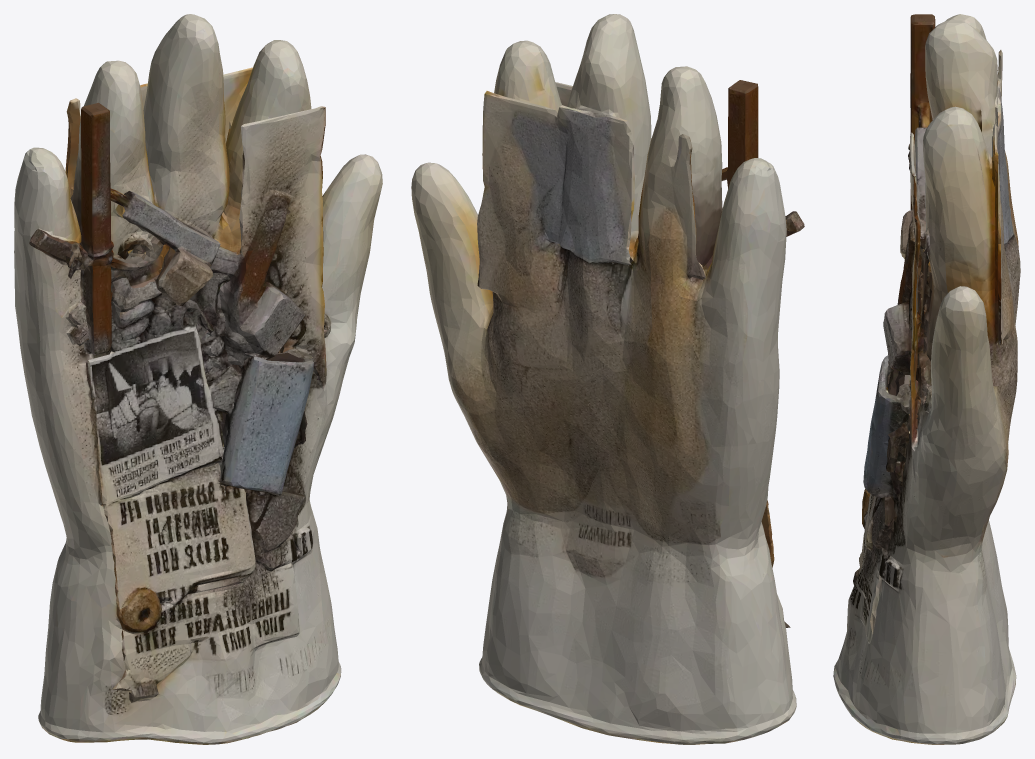
Rendered from chest (110).glb.
3 views of the same model, side by side, from view 1: azimuth 30°, elevation 25°; view 2: azimuth 150°, elevation 25°; view 3: azimuth 270°, elevation 25° (orthographic). The views are drawn at different scales.
Visible parts, largest first — view 1: Hy21_Mesh.obj; view 2: Hy21_Mesh.obj; view 3: Hy21_Mesh.obj.
Boxes of the visible parts, left/top/right/bottom form: Hy21_Mesh.obj: left=14, top=14, right=382, bottom=744; Hy21_Mesh.obj: left=411, top=14, right=804, bottom=744; Hy21_Mesh.obj: left=833, top=14, right=1020, bottom=744.
Bounding box in the file's own units: 1.1 × 1.96 × 0.4949.
1 material, 1 textured.
